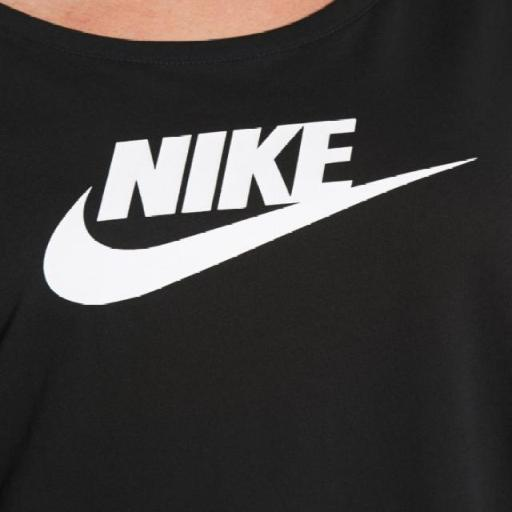Nike: (42, 175, 416, 306), (92, 117, 357, 226)
